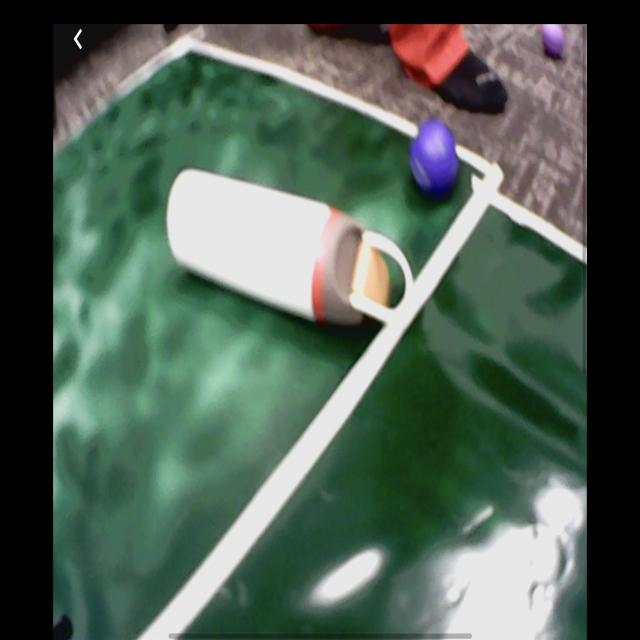ball: (413, 120, 460, 195), (540, 26, 566, 62)
